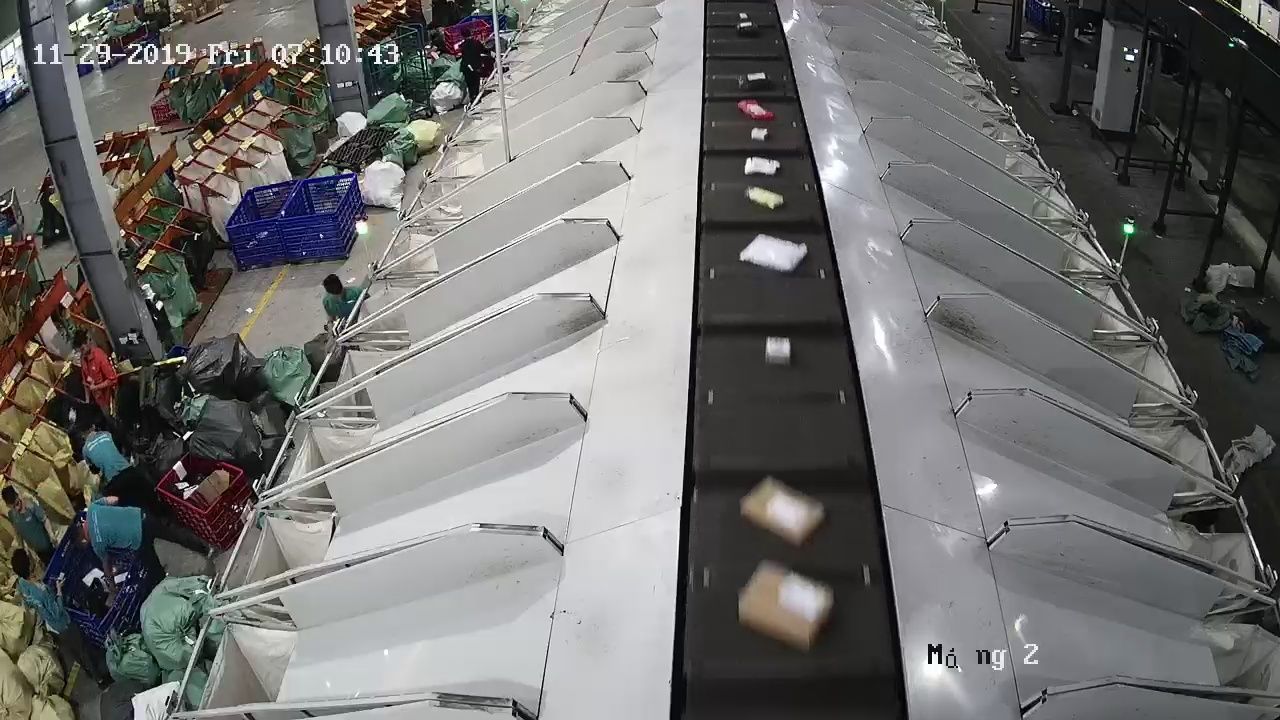parcel: (739, 565, 836, 654), (741, 479, 827, 548), (740, 234, 808, 273), (747, 186, 784, 210), (765, 336, 791, 365), (744, 156, 780, 176)
